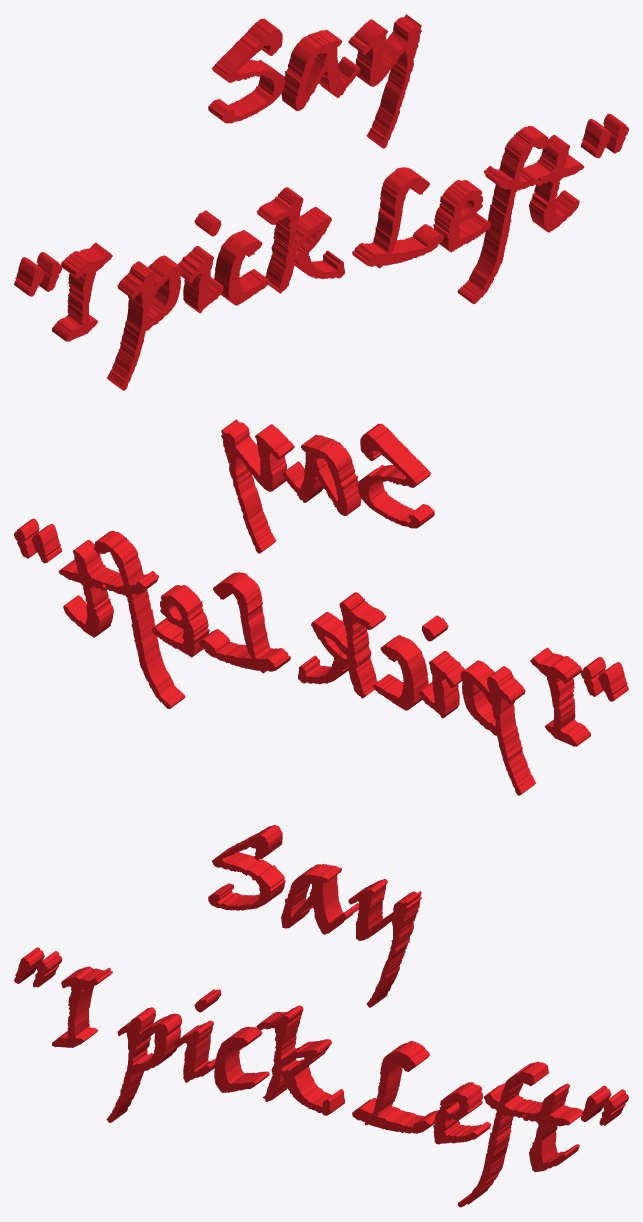
The model's file is wallMessage2Level3.fbx.
3 renders of one model, top to bottom at view 1: azimuth 30°, elevation 25°; view 2: azimuth 150°, elevation 25°; view 3: azimuth 330°, elevation 25°, orthographic.
Parts seen in each view (by area): view 1: node_id57 (×2); view 2: node_id57 (×2); view 3: node_id57 (×2).
Part boxes in pixels (x1,y1,x2,y2): node_id57 (×2): (14,14,628,390); node_id57 (×2): (14,419,628,795); node_id57 (×2): (14,824,628,1207).
Bounding box in the file's own units: 0.452 × 0.2335 × 0.0188.
